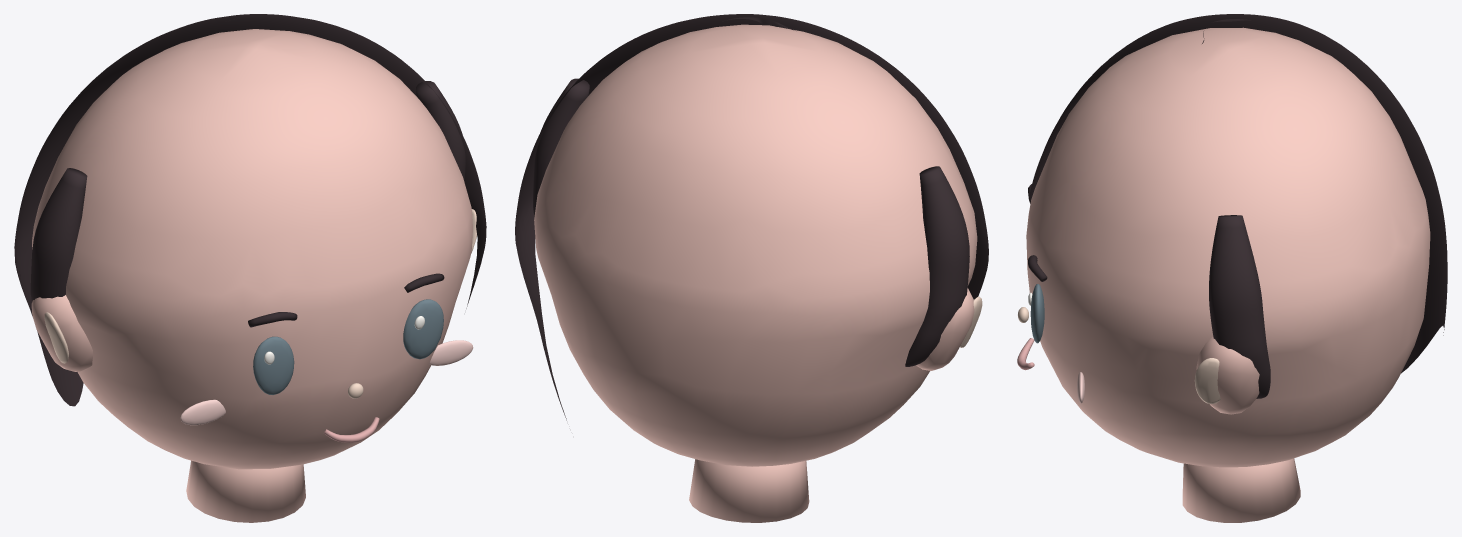
File: ke-zhi-en-2026-head.glb
3 views of the same model, side by side, from view 1: azimuth 30°, elevation 25°; view 2: azimuth 150°, elevation 25°; view 3: azimuth 270°, elevation 25° (orthographic).
Visible parts, largest first — view 1: Skin, Hair, Eye, Blush, Nose, Brow; view 2: Skin, Hair; view 3: Skin, Hair, Nose, Eye.
Boxes of the visible parts, <box> form: Skin: <box>31,29,472,522</box>; Hair: <box>14,14,486,406</box>; Eye: <box>253,299,443,394</box>; Blush: <box>180,340,473,425</box>; Nose: <box>44,209,477,398</box>; Brow: <box>248,273,444,327</box>; Skin: <box>534,24,977,522</box>; Hair: <box>515,14,988,420</box>; Skin: <box>1026,27,1430,522</box>; Hair: <box>1029,14,1447,398</box>; Nose: <box>1018,307,1220,403</box>; Eye: <box>1030,284,1044,343</box>.
Size of the model in its own units: 1.14 by 1.18 by 0.9864.
